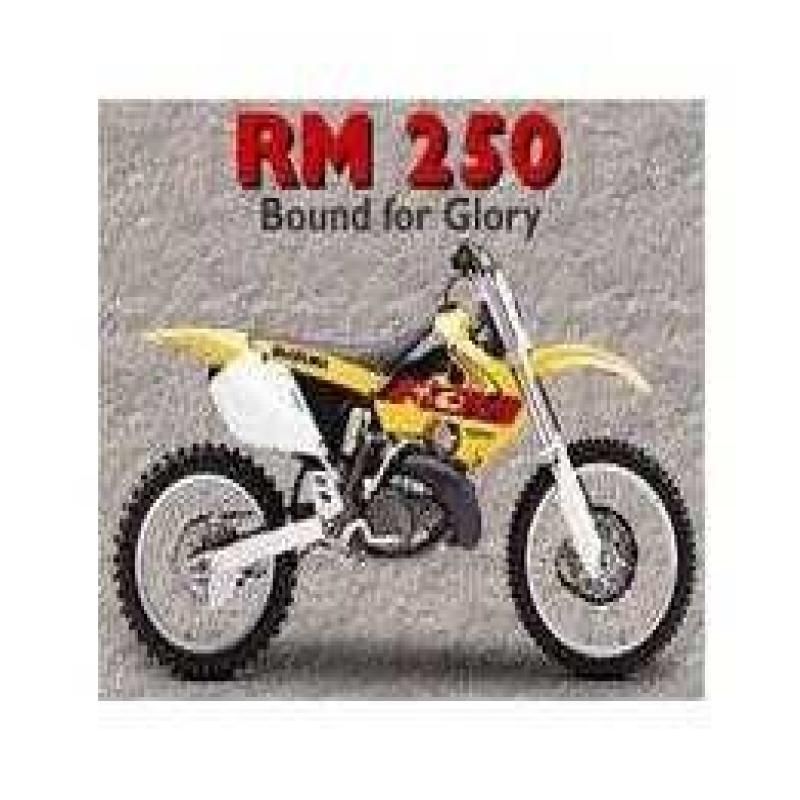bike: (116, 228, 698, 690)
